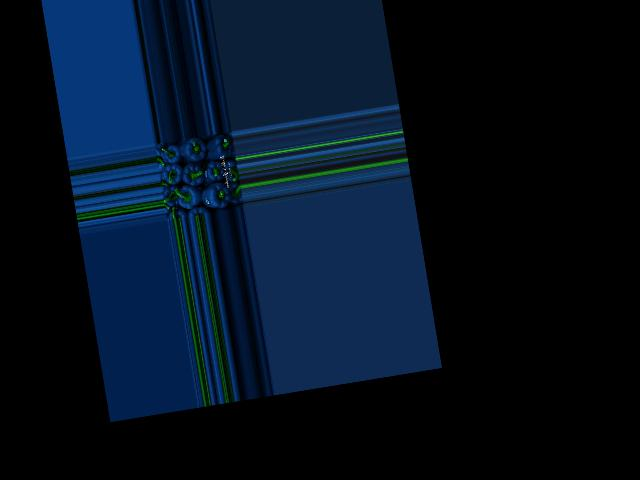bell_pepper: (224, 179, 244, 208)
